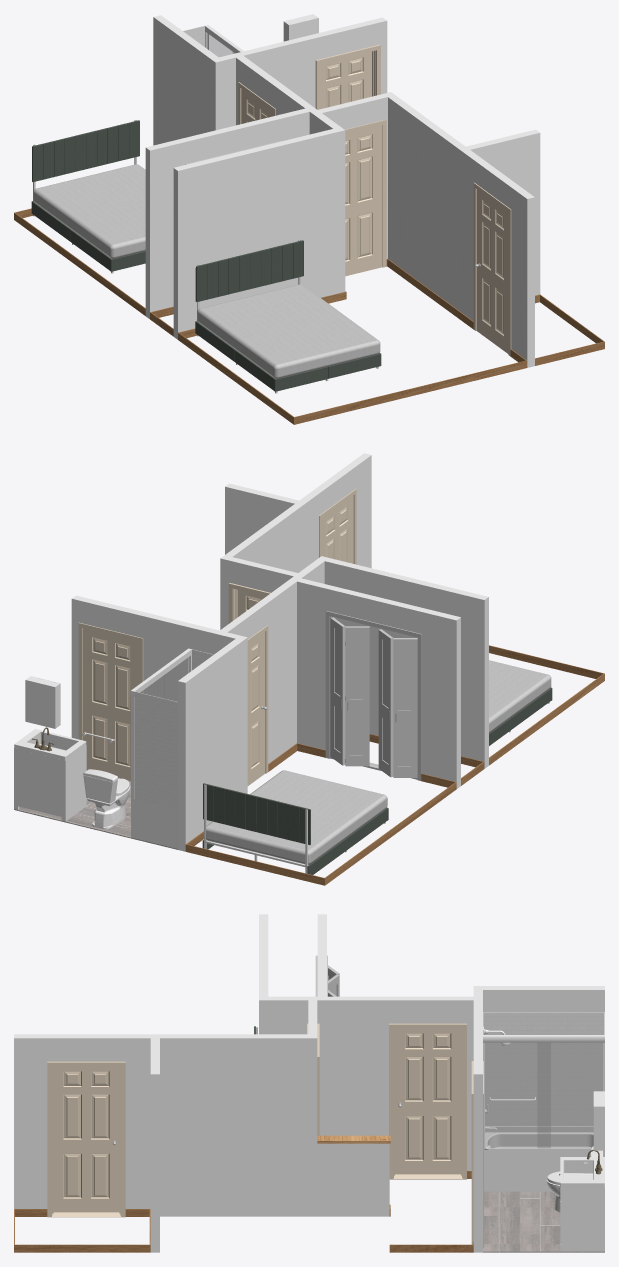
File: interiorsFF.glb
The picture shows the model from 3 angles, top to bottom: view 1: azimuth 30°, elevation 25°; view 2: azimuth 150°, elevation 25°; view 3: azimuth 270°, elevation 25°; orthographic projection. The views are drawn at different scales.
Parts seen in each view (by area): view 1: FF- interior wall, wood-door, bed_white, bed_white_2, FF- Base Board, bed_grey, bed_grey_2; view 2: FF- interior wall, wood-door, grey_door, bed_white_2, bathroom sink_porcelein.003, FF- Base Board, bed_grey_2, bathroom_sink, bed_white, bathroom sink_porcelein, bathroom_toilet, mirrorcab_cabinet (+4 smaller); view 3: FF- interior wall, wood-door, bathroom sink_porcelein.003, bathtub_glass.002, bathroom sink_porcelein, bathroom_sink, FF- Base Board, bathtub_metal_2.002, mirrorcab_cabinet, stair-wood, grey_door, bathroom_toilet.
Boxes of the visible parts, <box> form: FF- interior wall: <box>145,15,540,367</box>; wood-door: <box>238,44,511,356</box>; bed_white: <box>197,284,380,378</box>; bed_white_2: <box>33,164,145,258</box>; FF- Base Board: <box>14,208,604,424</box>; bed_grey: <box>195,240,381,391</box>; bed_grey_2: <box>31,120,145,271</box>; FF- interior wall: <box>71,453,488,851</box>; wood-door: <box>78,488,356,785</box>; grey_door: <box>325,611,421,780</box>; bed_white_2: <box>206,770,387,864</box>; bathroom sink_porcelein.003: <box>131,649,213,848</box>; FF- Base Board: <box>185,645,604,885</box>; bed_grey_2: <box>202,783,388,874</box>; bathroom_sink: <box>14,745,86,821</box>; bed_white: <box>489,660,551,732</box>; bathroom sink_porcelein: <box>14,729,177,849</box>; bathroom_toilet: <box>83,769,130,829</box>; mirrorcab_cabinet: <box>25,676,60,728</box>; FF- interior wall: <box>14,914,604,1252</box>; wood-door: <box>47,1023,483,1247</box>; bathroom sink_porcelein.003: <box>483,1012,604,1191</box>; bathtub_glass.002: <box>485,1042,602,1148</box>; bathroom sink_porcelein: <box>483,1157,604,1252</box>; bathroom_sink: <box>560,1187,604,1251</box>; FF- Base Board: <box>14,1171,473,1252</box>; bathtub_metal_2.002: <box>483,1026,604,1150</box>; mirrorcab_cabinet: <box>593,1091,604,1150</box>; stair-wood: <box>317,1135,390,1143</box>; grey_door: <box>315,955,339,996</box>; bathroom_toilet: <box>546,1146,602,1212</box>.
Size of the model in its own units: 4.67 by 2.43 by 7.29.
Materials: 21 (9 with a texture image).
